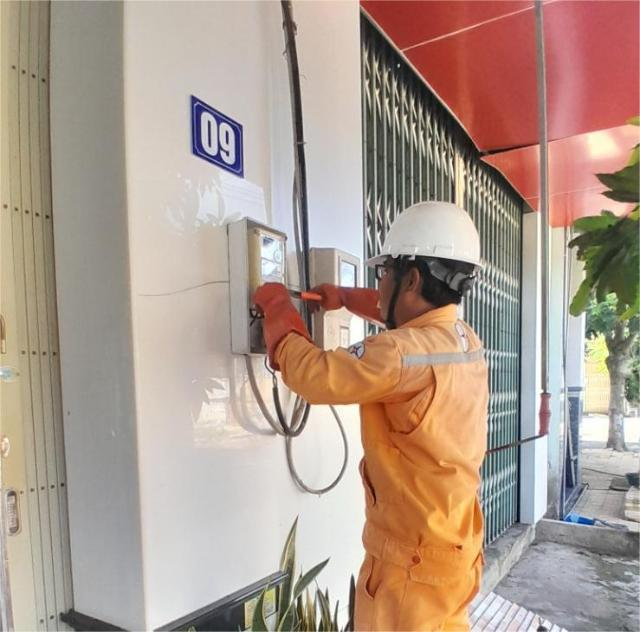gloves: (237, 273, 317, 363), (302, 279, 402, 337)
helmet: (369, 184, 497, 298)
